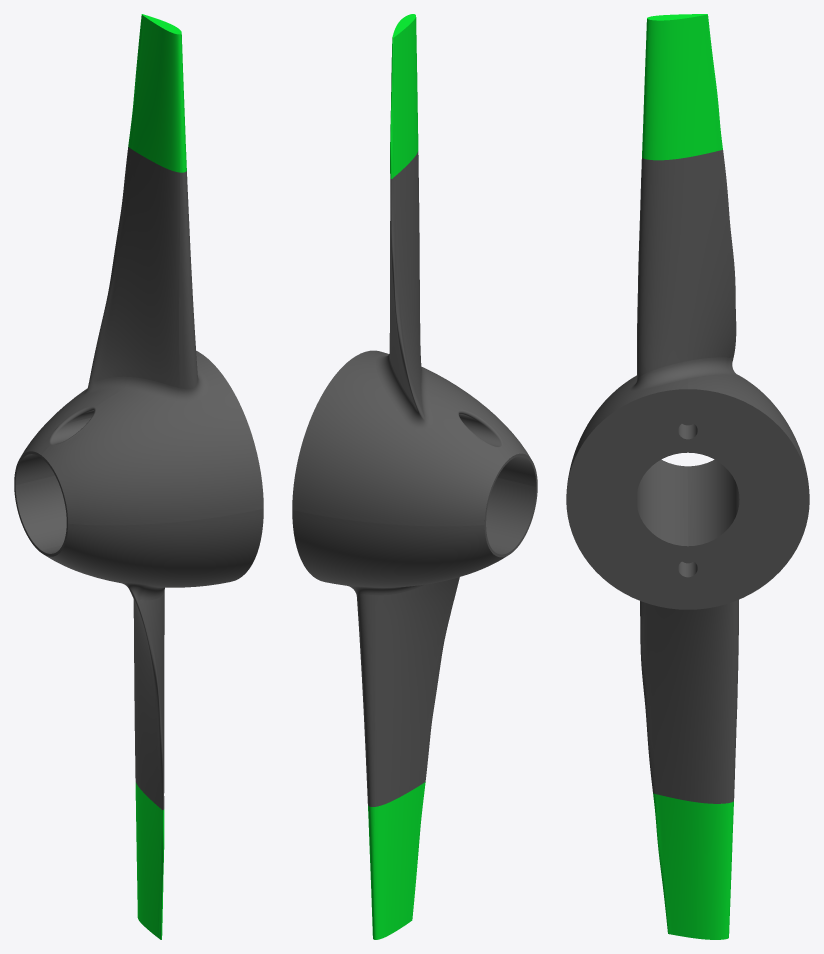
Rendered from lolo_strb_propeller.dae.
The picture shows the model from 3 angles, left to right: view 1: azimuth 30°, elevation 25°; view 2: azimuth 150°, elevation 25°; view 3: azimuth 270°, elevation 25°; orthographic projection. The views are drawn at different scales.
Parts seen in each view (by area): view 1: Brep.001, Brep, Brep.003, Brep.002; view 2: Brep.001, Brep, Brep.002, Brep.003; view 3: Brep, Brep.001, Brep.003, Brep.002.
Boxes of the visible parts, x1,y1,x2,y2 form: Brep.001: (14,147,263,525); Brep: (14,475,263,809); Brep.003: (128,14,186,172); Brep.002: (135,782,164,939); Brep.001: (292,151,537,526); Brep: (292,477,537,806); Brep.002: (368,782,425,939); Brep.003: (390,14,418,178); Brep: (566,459,809,803); Brep.001: (566,149,809,499); Brep.003: (642,14,722,160); Brep.002: (653,793,733,939).
Bounding box in the file's own units: 0.0746 × 0.096 × 0.4.
